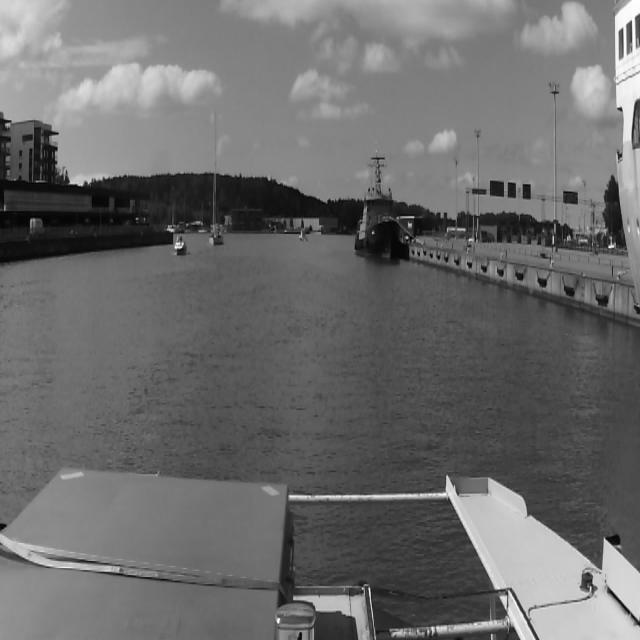ship: (355, 147, 403, 261), (208, 108, 224, 246), (173, 235, 187, 257), (298, 228, 308, 242)
